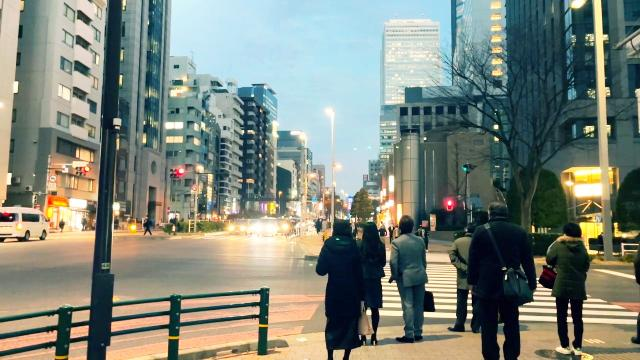berdiri: (464, 198, 540, 360), (316, 210, 364, 356), (546, 217, 594, 357), (385, 212, 435, 346), (442, 211, 478, 334), (357, 212, 387, 348)
